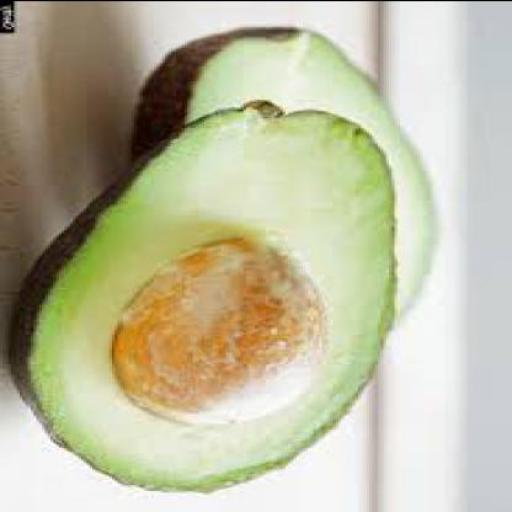biodegradable: (14, 104, 400, 495), (118, 26, 436, 338), (114, 239, 336, 428)
